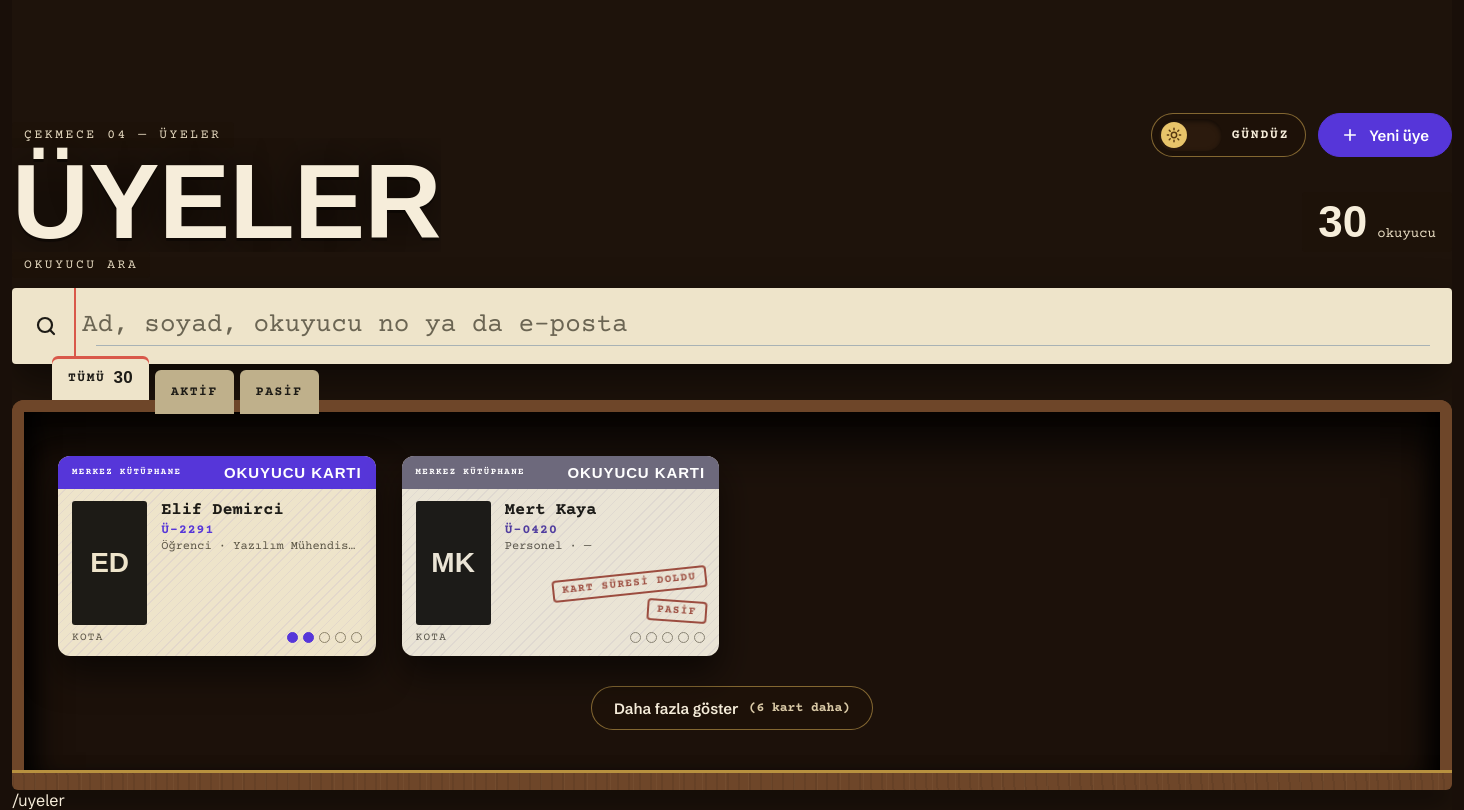
Test: Üye listesi › 24 kartı aşınca "Daha fazla göster" ikinci sayfayı ister
The width and height of the screenshot is (1464, 810).
(page scrolled)
Click the button "Daha fazla göster (6 kart daha)": x=732, y=708 [591, 686, 873, 730]
(page scrolled)
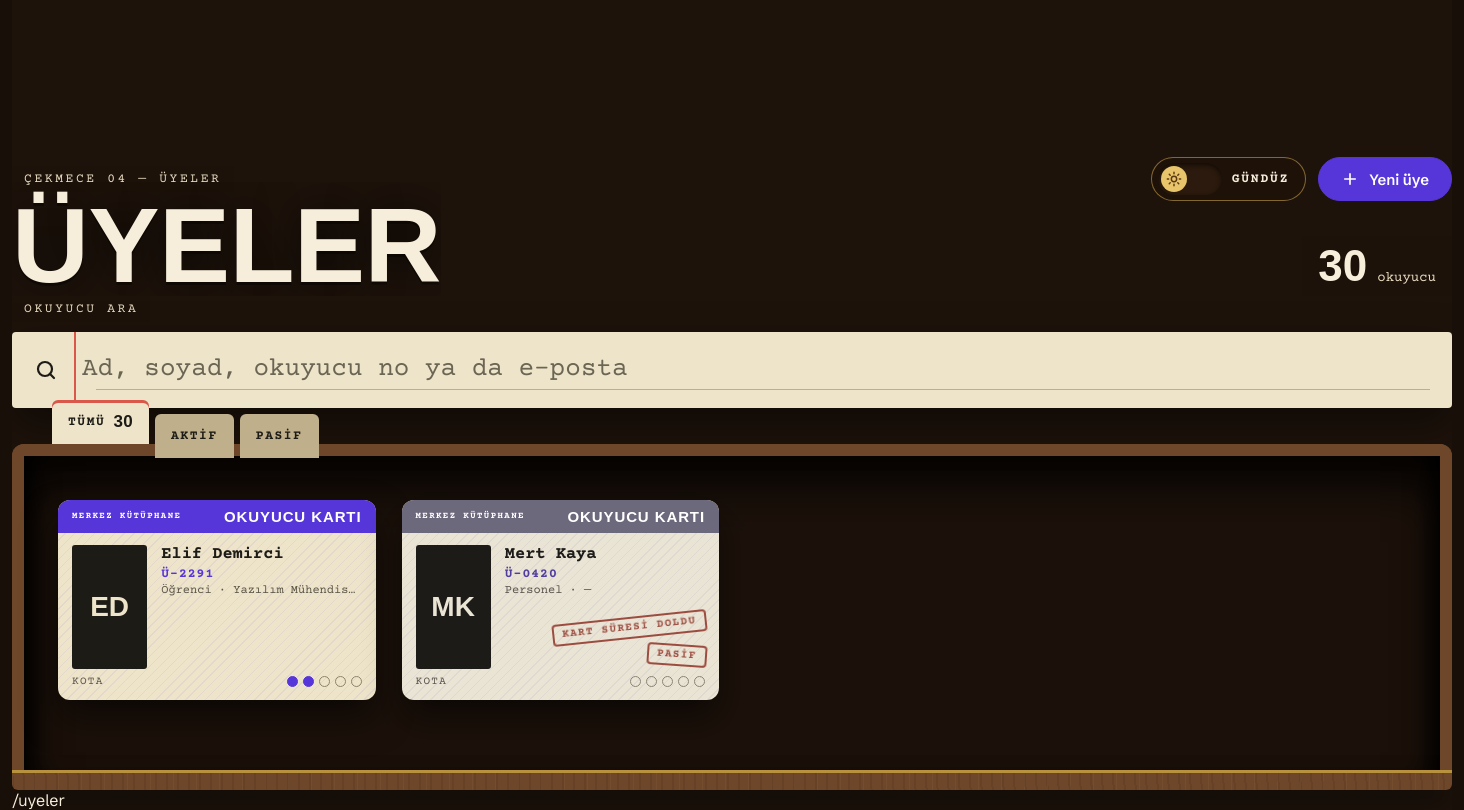
Expected: the button "Daha fazla göster" is gone
